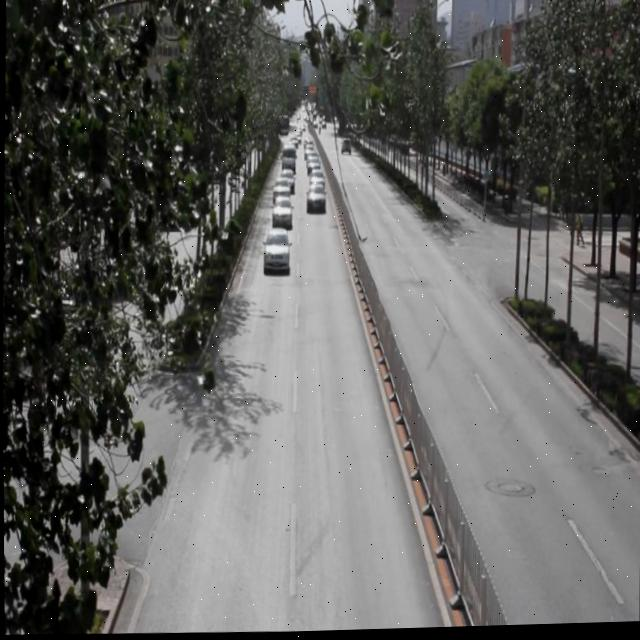car: (263, 228, 290, 279), (271, 197, 293, 230), (306, 185, 327, 217), (272, 180, 289, 207)
